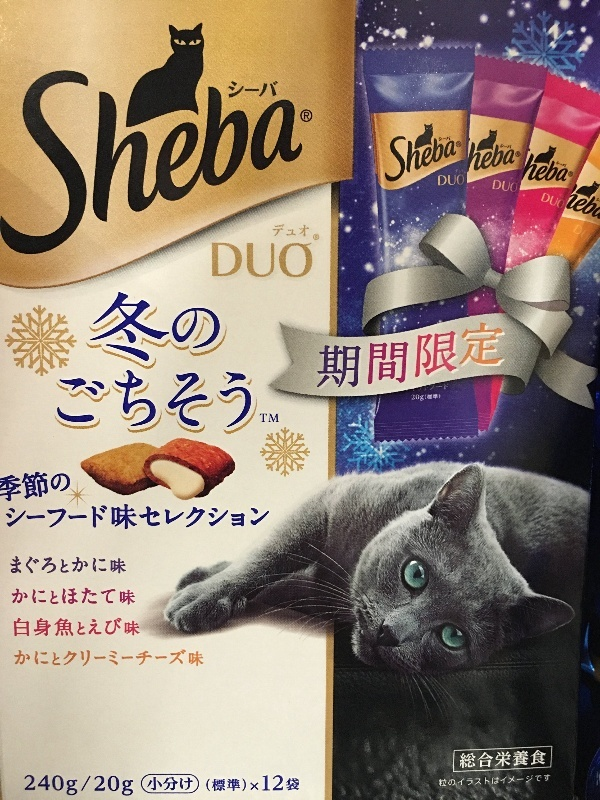text: (1, 57, 16, 278), (17, 57, 32, 278), (33, 57, 48, 278), (49, 57, 64, 278), (65, 57, 80, 278), (81, 57, 96, 278), (97, 57, 112, 278), (113, 57, 128, 278), (129, 57, 144, 278), (145, 57, 160, 278), (161, 57, 176, 278), (177, 57, 192, 278), (193, 57, 208, 278), (209, 57, 224, 278), (225, 57, 240, 278), (241, 57, 256, 278), (257, 57, 272, 278), (273, 57, 288, 278), (289, 57, 304, 278), (129, 291, 144, 394), (145, 291, 160, 394), (161, 291, 176, 394), (177, 291, 192, 394), (193, 291, 208, 394), (209, 291, 222, 394), (321, 319, 336, 398), (337, 319, 352, 398), (353, 319, 368, 398), (369, 319, 384, 398), (385, 319, 400, 398), (401, 319, 416, 398), (417, 319, 432, 398), (433, 319, 448, 398), (449, 319, 464, 398), (465, 319, 480, 398), (481, 319, 496, 398), (65, 367, 80, 436), (81, 367, 96, 436), (97, 367, 112, 436), (113, 367, 128, 436), (129, 367, 144, 436), (145, 367, 160, 436), (161, 367, 176, 436), (177, 367, 192, 436), (193, 367, 208, 436), (209, 367, 224, 436), (225, 367, 240, 436), (118, 291, 128, 394), (497, 319, 510, 398), (241, 367, 255, 436), (401, 132, 416, 189), (417, 132, 432, 189), (433, 132, 448, 189), (225, 239, 240, 283), (241, 239, 256, 283), (257, 239, 272, 283), (273, 239, 288, 283), (289, 239, 304, 283), (577, 182, 592, 225), (211, 239, 224, 283), (1, 466, 16, 504), (17, 466, 32, 504), (33, 466, 48, 504), (49, 466, 64, 504), (449, 132, 459, 189), (481, 139, 496, 175), (497, 139, 512, 175), (545, 153, 560, 186), (545, 188, 560, 216), (33, 772, 48, 800), (49, 772, 64, 800), (65, 772, 80, 800), (81, 772, 96, 800), (97, 772, 112, 800), (113, 772, 128, 800), (273, 772, 288, 800), (17, 504, 32, 531), (33, 504, 48, 531), (49, 504, 64, 531), (65, 504, 80, 531), (81, 504, 96, 531), (97, 504, 112, 531), (113, 504, 128, 531), (129, 504, 144, 531), (145, 504, 160, 531), (161, 504, 176, 531), (177, 504, 192, 531), (193, 504, 208, 531), (209, 504, 224, 531), (225, 504, 240, 531), (241, 504, 256, 531), (393, 132, 400, 189), (305, 239, 314, 283), (532, 153, 544, 186), (257, 504, 271, 531), (289, 772, 302, 800), (470, 139, 480, 175), (465, 748, 480, 772), (481, 748, 496, 772), (497, 748, 512, 772), (513, 748, 528, 772), (529, 748, 544, 772), (161, 773, 176, 797), (177, 773, 192, 797), (449, 768, 464, 792), (465, 768, 480, 792), (481, 768, 496, 792), (497, 768, 512, 792), (513, 768, 528, 792), (529, 768, 544, 792), (449, 169, 464, 191), (497, 177, 512, 199), (225, 776, 240, 798), (241, 79, 256, 101), (257, 79, 272, 101), (17, 556, 32, 577), (33, 556, 48, 577), (49, 556, 64, 577), (65, 556, 80, 577), (81, 556, 96, 577), (97, 556, 112, 577), (17, 617, 32, 638), (33, 617, 48, 638), (49, 617, 64, 638), (65, 617, 80, 638), (81, 617, 96, 638), (97, 617, 112, 638), (113, 617, 128, 638), (417, 383, 432, 404), (433, 383, 448, 404), (147, 773, 160, 797), (65, 466, 73, 504), (593, 182, 600, 225), (17, 648, 32, 668), (33, 648, 48, 668), (49, 648, 64, 668), (65, 648, 80, 668), (81, 648, 96, 668), (97, 648, 112, 668), (113, 648, 128, 668), (129, 648, 144, 668), (145, 648, 160, 668), (161, 648, 176, 668), (177, 648, 192, 668), (113, 556, 127, 577), (211, 776, 224, 798), (17, 587, 32, 606), (33, 587, 48, 606), (49, 587, 64, 606), (65, 587, 80, 606), (81, 587, 96, 606), (97, 587, 112, 606), (113, 587, 128, 606), (262, 772, 272, 800), (60, 367, 64, 436), (129, 617, 142, 638), (6, 504, 16, 531), (436, 169, 448, 191), (561, 153, 569, 186), (437, 768, 448, 792), (193, 648, 206, 668), (229, 79, 240, 101), (289, 224, 304, 240), (274, 224, 288, 240), (305, 57, 306, 278), (25, 772, 32, 800), (259, 411, 272, 425), (513, 177, 521, 199), (129, 772, 135, 800), (318, 319, 320, 398), (9, 556, 16, 577), (513, 139, 517, 175), (545, 768, 551, 792), (561, 188, 566, 216), (129, 587, 136, 606), (273, 79, 279, 101), (459, 748, 464, 772), (305, 107, 311, 127), (273, 411, 280, 425), (305, 224, 311, 240), (11, 587, 16, 606), (412, 383, 416, 404), (545, 748, 548, 772), (493, 177, 496, 199), (13, 617, 16, 638), (465, 169, 467, 191), (241, 776, 243, 798), (302, 107, 304, 127), (14, 648, 16, 668), (315, 234, 320, 240), (193, 773, 194, 797), (449, 383, 450, 404)
